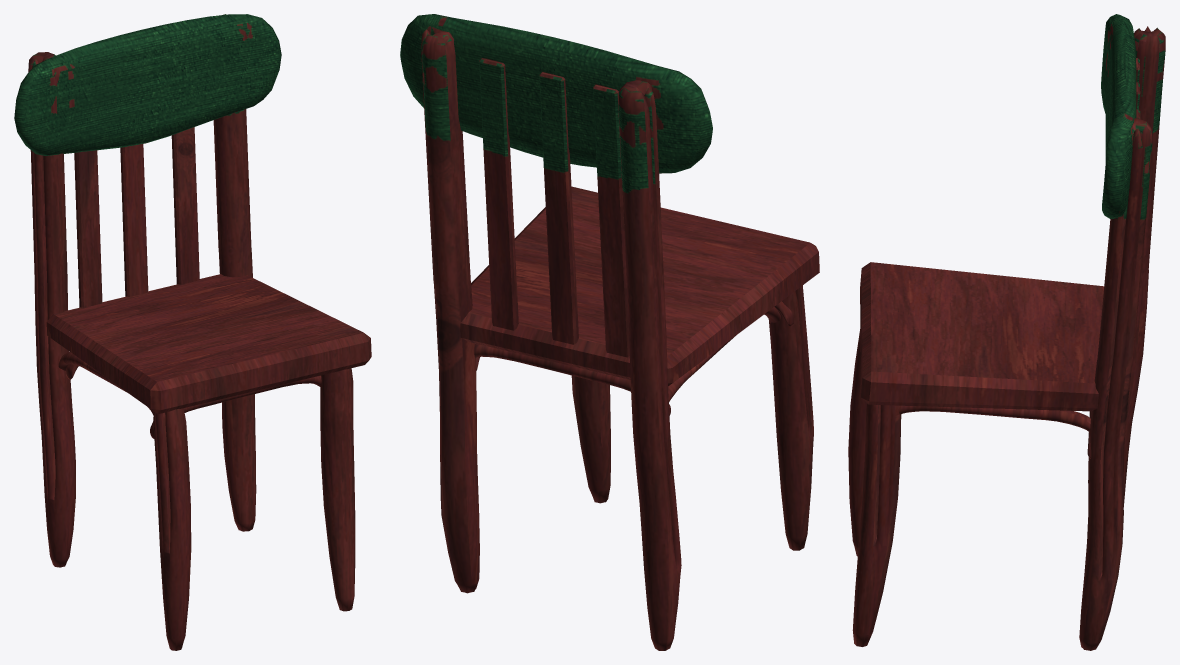
File: Study-Chair.fbx
3 renders of one model, left to right at view 1: azimuth 30°, elevation 25°; view 2: azimuth 150°, elevation 25°; view 3: azimuth 270°, elevation 25°, orthographic. The views are drawn at different scales.
Visible parts, largest first — view 1: Study_Chair; view 2: Study_Chair; view 3: Study_Chair.
Boxes of the visible parts, <box> form: Study_Chair: <box>14,14,371,650</box>; Study_Chair: <box>400,14,819,650</box>; Study_Chair: <box>848,14,1165,650</box>.
Bounding box in the file's own units: 70.35 × 128 × 67.79.
Materials: 1 (1 with a texture image).
